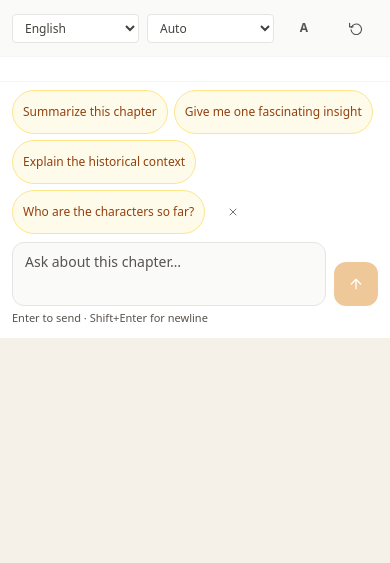
Test case: an empty answer becomes a retryable error, not a blank bubble
Type "Why the wager?" into the text box.
click(169, 274); type("Why the wager?")  # box x1=12 y1=242 x2=326 y2=306
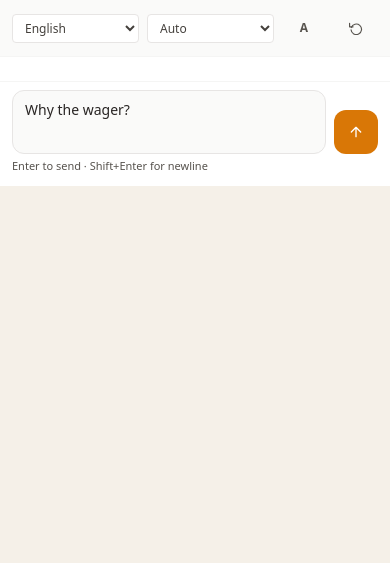
Click the button named "send".
click(356, 132)  # box x1=334 y1=110 x2=378 y2=154
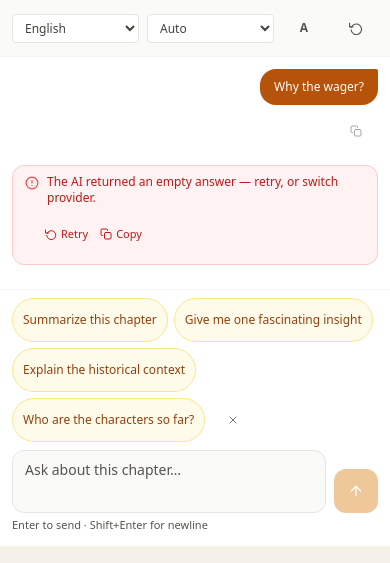
Now the message shows "empty", box x1=47 y1=172 x2=338 y2=206
Now the button "Retry" is shown, box x1=45 y1=212 x2=88 y2=256
